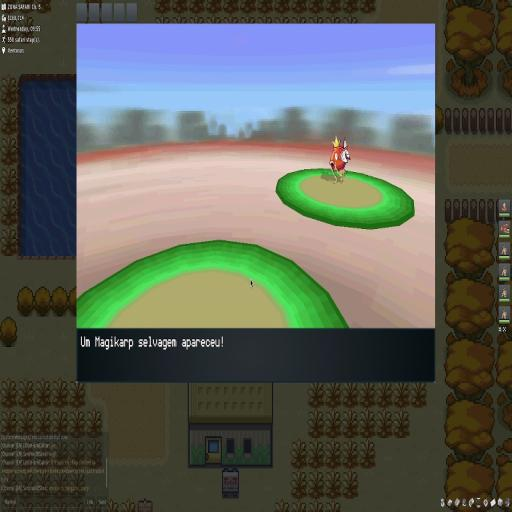MAGIKARP: (328, 136, 351, 184)
